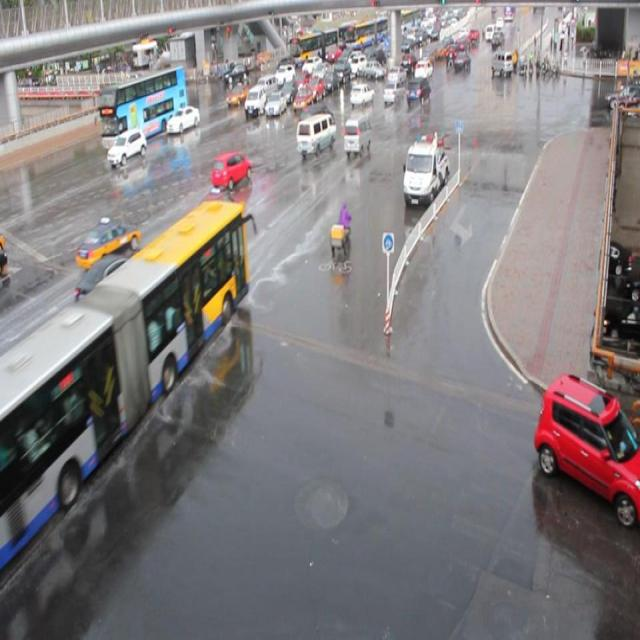bus: (402, 136, 448, 205)
car: (532, 371, 640, 522), (72, 253, 154, 324), (75, 216, 140, 268), (185, 186, 243, 243), (210, 150, 252, 188), (106, 128, 146, 165), (298, 103, 333, 139), (166, 105, 200, 132), (404, 77, 431, 106), (226, 82, 252, 105), (349, 82, 374, 105), (264, 92, 286, 117), (292, 86, 312, 112), (382, 80, 404, 103), (279, 80, 298, 103), (305, 77, 324, 100), (292, 72, 311, 93)
truck: (295, 112, 335, 156), (342, 112, 371, 156), (246, 84, 268, 116), (254, 73, 277, 100)
van: (0, 200, 248, 550), (98, 63, 188, 150)
